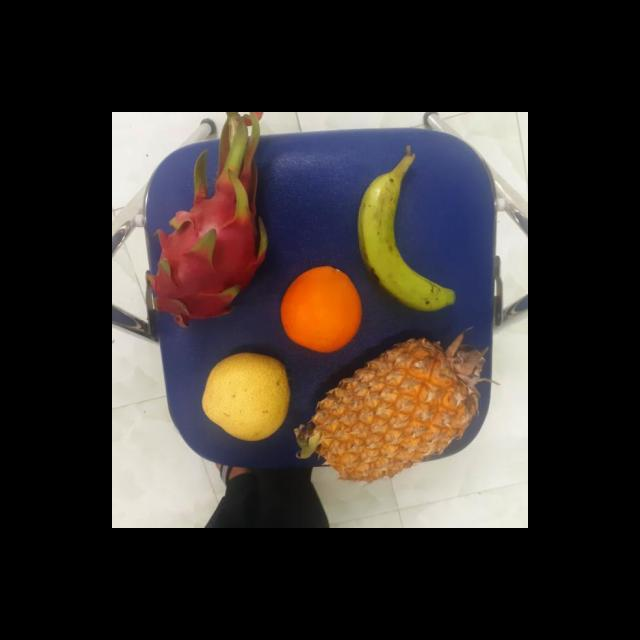banana: (360, 161, 456, 313)
orange: (279, 265, 364, 351)
pear: (198, 352, 296, 442)
pineapple: (306, 338, 493, 485)
pitaya: (148, 152, 276, 328)
